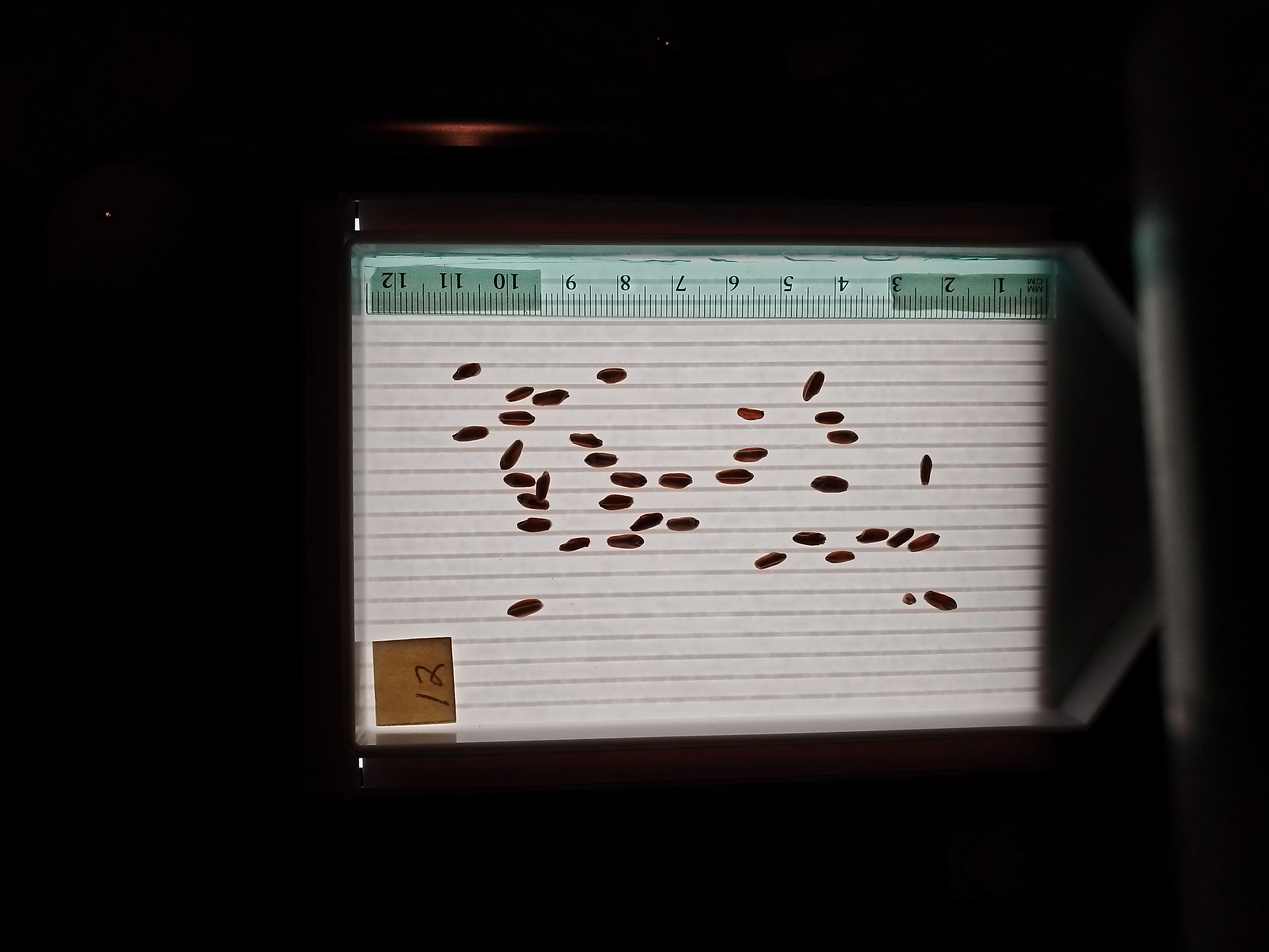seed mask: (508, 598, 543, 618), (717, 468, 753, 486), (500, 440, 523, 468), (533, 389, 568, 407), (812, 476, 848, 493), (803, 372, 824, 401), (925, 592, 957, 611), (908, 533, 939, 552), (632, 513, 663, 532), (611, 472, 645, 489), (600, 494, 633, 511), (659, 473, 692, 490), (453, 426, 487, 442), (608, 534, 643, 549), (518, 493, 548, 510), (500, 411, 534, 426), (755, 552, 785, 569), (517, 518, 551, 533), (453, 363, 481, 381), (734, 448, 767, 463), (505, 473, 535, 489), (667, 517, 699, 532), (571, 433, 602, 448), (586, 453, 617, 468), (889, 528, 913, 547), (828, 430, 858, 445), (858, 528, 888, 543), (598, 368, 626, 384), (794, 532, 825, 546), (534, 474, 550, 500), (815, 411, 843, 425), (561, 538, 589, 552), (507, 387, 533, 402), (827, 551, 853, 564), (921, 455, 932, 484), (738, 409, 763, 420)
